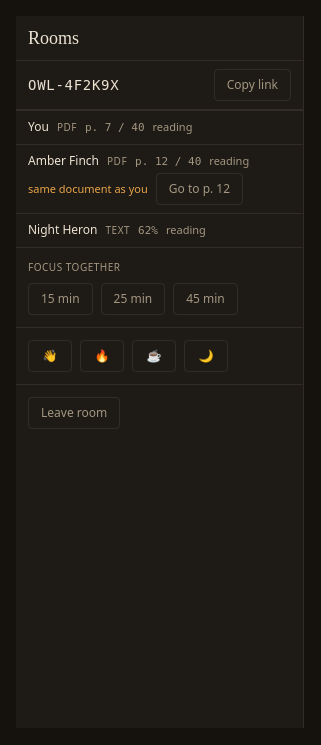
Test: RoomPanel in a room › shows the code and copies the link
Expected: the text "OWL-4F2K9X" is shown, [28,75,119,95]
Click the button "Copy link": (252, 85) [214,69,291,101]
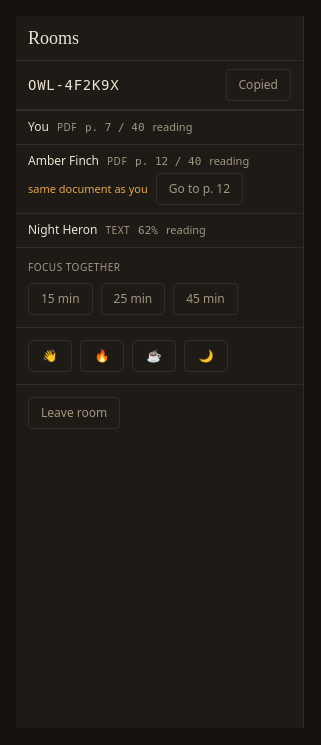
Expected: the button "Copied" is shown, [226,69,291,101]
